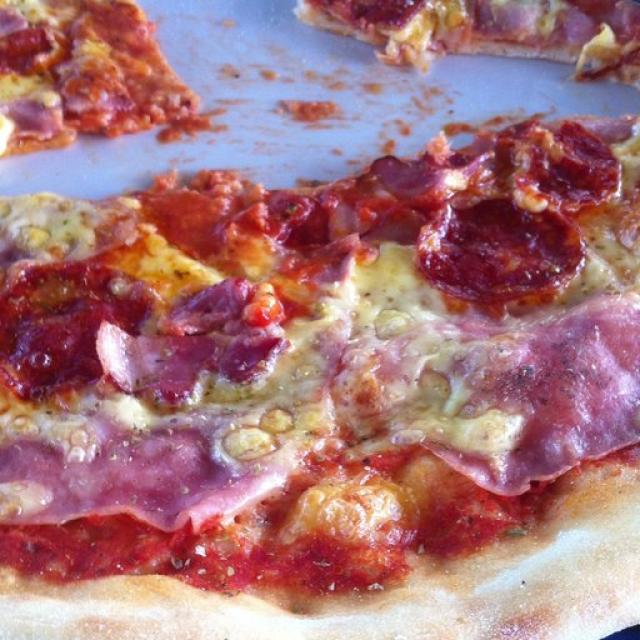Ham: (346, 306, 639, 482), (2, 421, 271, 515), (98, 317, 283, 392), (175, 281, 266, 328), (561, 6, 617, 49), (14, 99, 72, 137)
Pepperoni: (0, 263, 151, 382), (420, 196, 584, 304), (510, 120, 618, 214), (2, 23, 75, 74), (344, 0, 430, 32)
Pizza: (0, 115, 640, 640), (0, 0, 205, 154), (296, 0, 640, 76)
